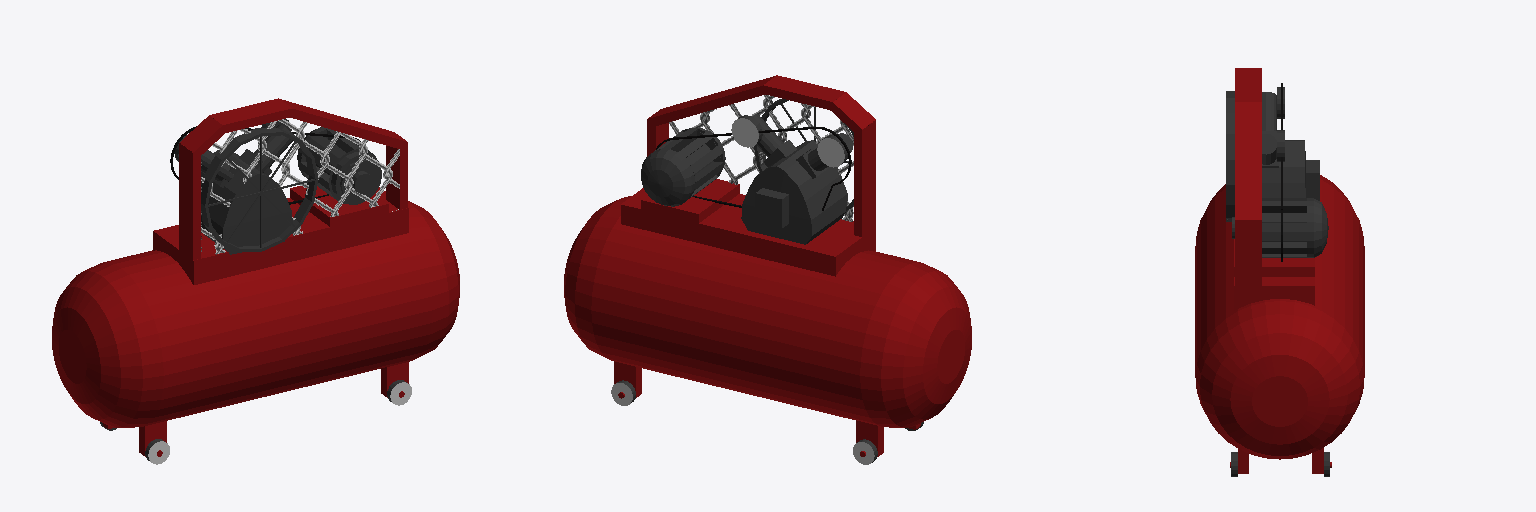
3 views of the same model, side by side, from view 1: azimuth 30°, elevation 25°; view 2: azimuth 150°, elevation 25°; view 3: azimuth 270°, elevation 25° (orthographic).
Visible parts, largest first — view 1: __, ___.1, __.2, __.1, ___2, ___, ___.5, ___.3, ___.4, __.4, __.5, ___.2 (+2 smaller); view 2: __, ___.1, __.2, ___, ___.5, __.4, ___.3, ___.4, ___1, __.1, ___.9, __.3 (+2 smaller); view 3: __, ___.3, __.4, __.2, ___.1, ___.2, ___, __.1, ___.4, __.3, ___.9.
Part boxes in pixels (x1,y1,x2,y2): __: (52, 126, 459, 427); ___.1: (153, 187, 408, 284); __.2: (157, 150, 404, 456); __.1: (100, 128, 411, 464); ___2: (202, 119, 399, 254); ___: (103, 186, 408, 456); ___.5: (179, 143, 200, 283); ___.3: (280, 99, 407, 150); ___.4: (209, 98, 291, 133); __.4: (261, 119, 378, 203); __.5: (254, 123, 381, 204); ___.2: (386, 136, 407, 209); __: (564, 127, 971, 427); ___.1: (621, 188, 861, 276); __.2: (618, 140, 865, 456); ___: (614, 179, 920, 456); ___.5: (854, 120, 875, 251); __.4: (655, 115, 762, 196); ___.3: (648, 76, 774, 126); ___.4: (763, 75, 845, 110); ___1: (669, 95, 853, 221); __.1: (611, 99, 923, 464); ___.9: (755, 188, 788, 228); __.3: (808, 133, 852, 170); __: (1195, 83, 1364, 459); ___.3: (1235, 102, 1261, 219); __.4: (1262, 130, 1307, 257); __.2: (1230, 140, 1331, 467); ___.1: (1234, 277, 1314, 310); ___.2: (1235, 220, 1261, 285); ___: (1234, 239, 1323, 473); __.1: (1226, 91, 1329, 476); ___.4: (1235, 68, 1261, 101); __.3: (1262, 87, 1284, 130); ___.9: (1306, 160, 1319, 200).
Bounding box in the file's own units: 358 × 300 × 143.
5 materials, 1 textured.